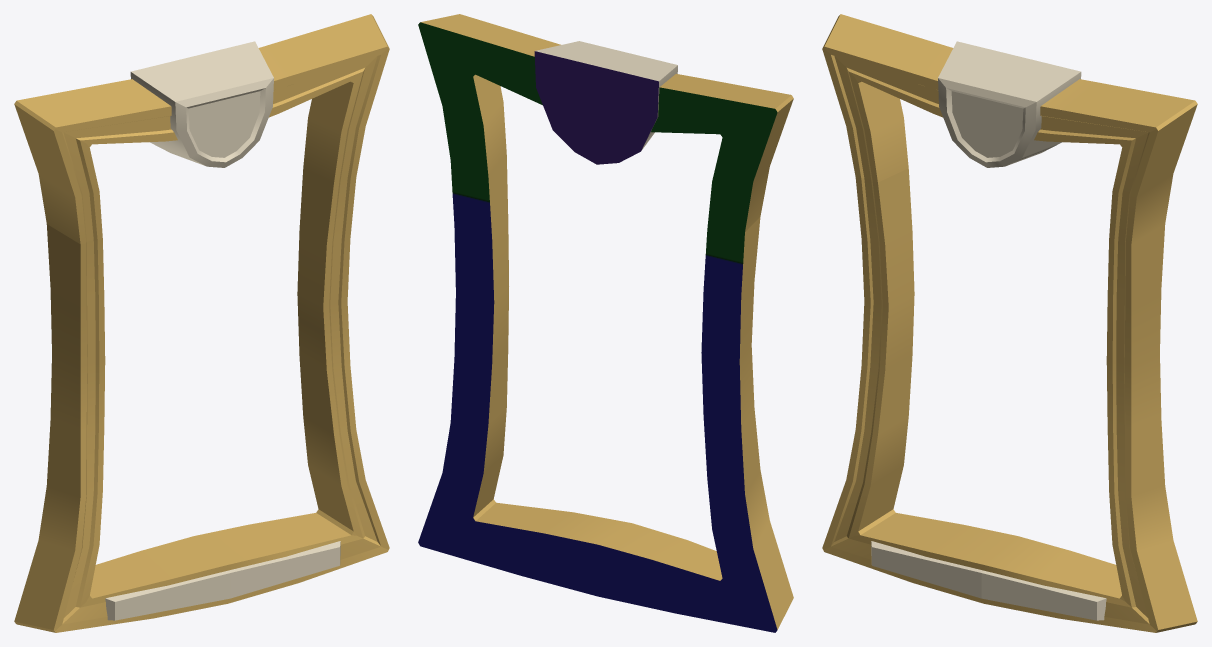
Rendered from MiscFrame1UV.fbx.
3 renders of one model, left to right at view 1: azimuth 30°, elevation 25°; view 2: azimuth 150°, elevation 25°; view 3: azimuth 330°, elevation 25°, orthographic.
Visible parts, largest first — view 1: LargePictureFrame1; view 2: LargePictureFrame1; view 3: LargePictureFrame1.
Part boxes in pixels (bbox=[...]): LargePictureFrame1: bbox=[14, 14, 389, 632]; LargePictureFrame1: bbox=[418, 14, 793, 632]; LargePictureFrame1: bbox=[822, 14, 1197, 632].
Bounding box in the file's own units: 298 × 420 × 53.72.
